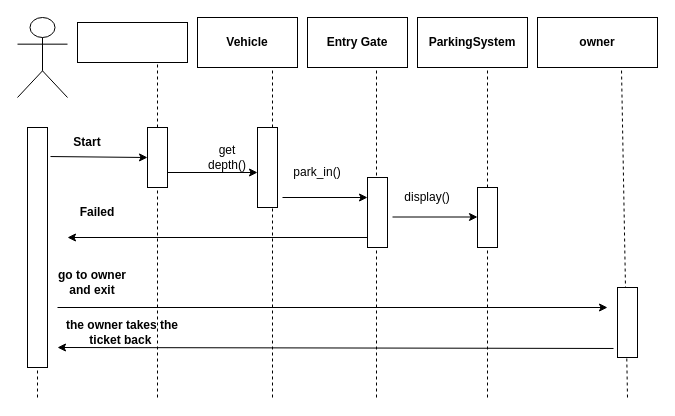
This 675x416 diagram has some shape labels left out. The centre of each missing label's shape, as x and y in pixels:
"Driver" belongs at (x=42, y=57).
"Screen Boundry" belongs at (x=132, y=42).
